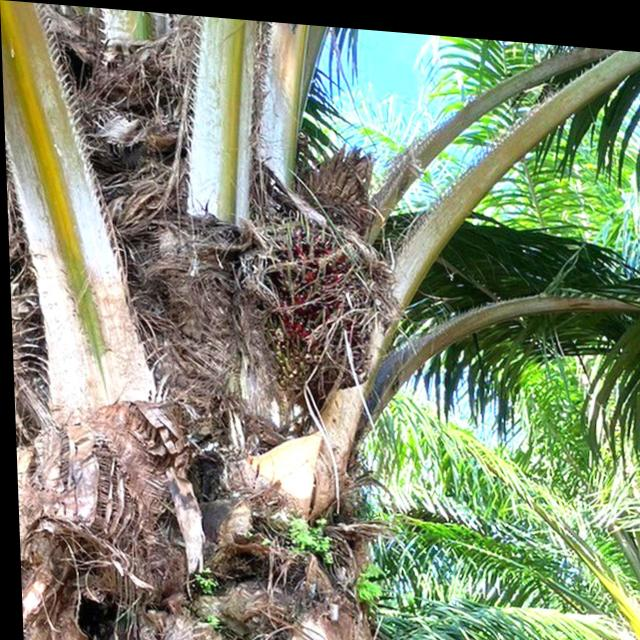ripe: (270, 216, 371, 376)
